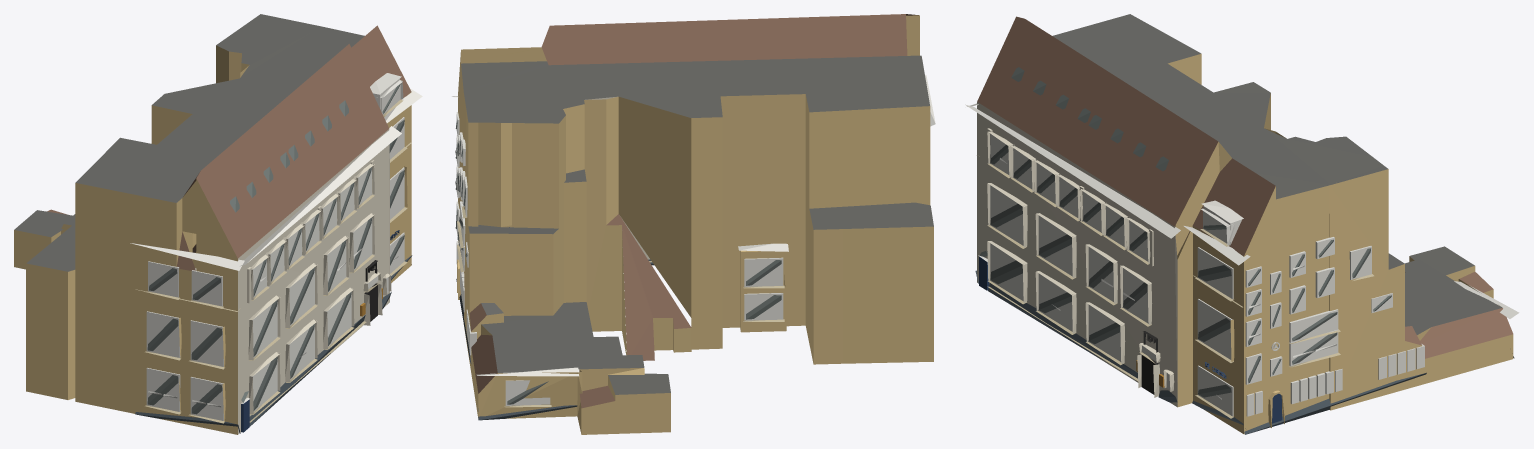
Rendered from de-coenen-coenenstraat.lod1.glb.
3 renders of one model, left to right at view 1: azimuth 30°, elevation 25°; view 2: azimuth 150°, elevation 25°; view 3: azimuth 270°, elevation 25°, orthographic. The views are drawn at different scales.
Parts seen in each view (by area): view 1: de-coenen-coenenstraat; view 2: de-coenen-coenenstraat; view 3: de-coenen-coenenstraat.
Part boxes in pixels (x1,y1,x2,y2): de-coenen-coenenstraat: [14, 14, 422, 434]; de-coenen-coenenstraat: [452, 14, 935, 434]; de-coenen-coenenstraat: [965, 14, 1519, 434].
Bounding box in the file's own units: 36.36 × 20.39 × 39.93.
